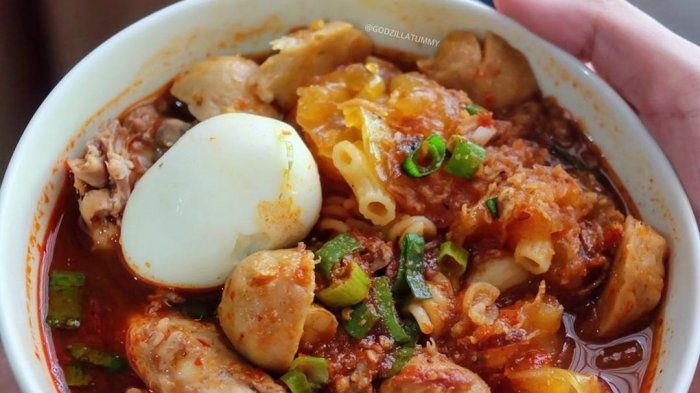seblak: (70, 21, 669, 393)
